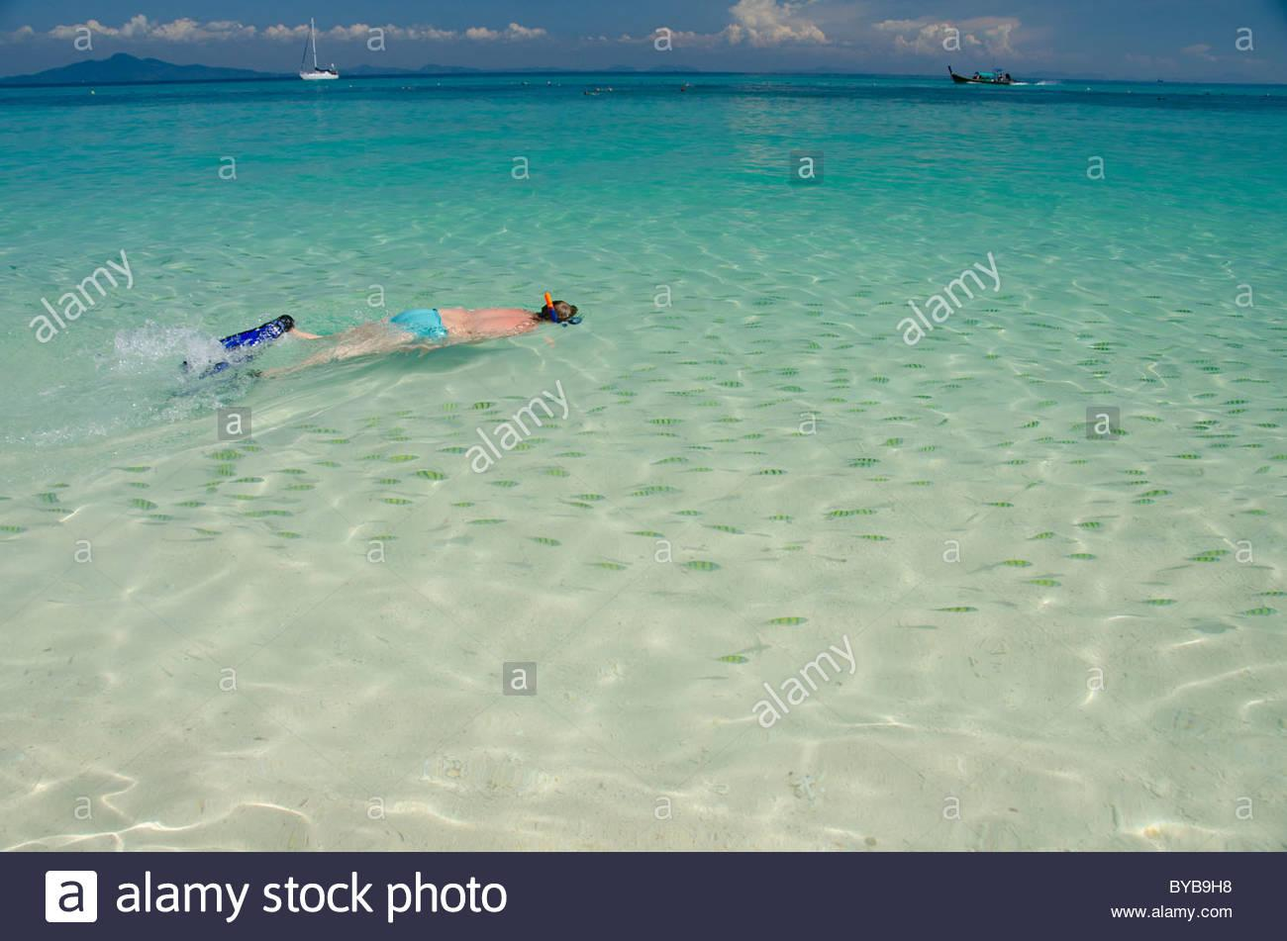human: (281, 290, 580, 381)
